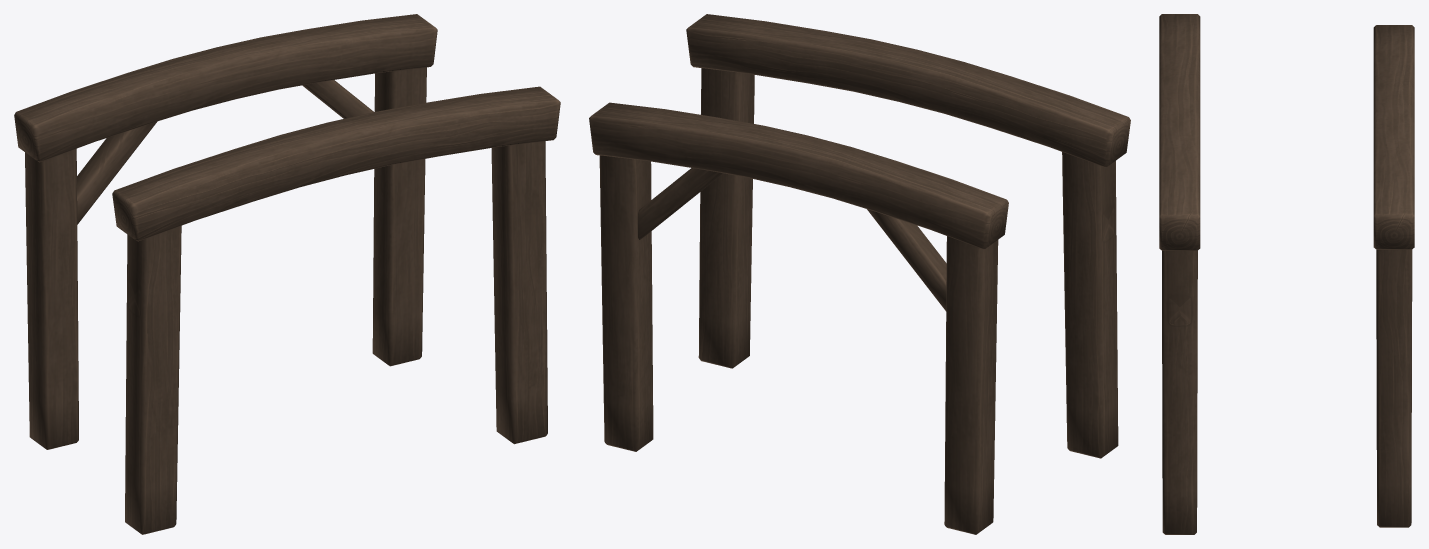
File: minePath_wood4_lod.fbx
The picture shows the model from 3 angles, left to right: view 1: azimuth 30°, elevation 25°; view 2: azimuth 150°, elevation 25°; view 3: azimuth 270°, elevation 25°; orthographic projection. The views are drawn at different scales.
Visible parts, largest first — view 1: shaftPath_wood4_LOD0; view 2: shaftPath_wood4_LOD0; view 3: shaftPath_wood4_LOD0.
Boxes of the visible parts, x1,y1,x2,y2 form: shaftPath_wood4_LOD0: (14,14,560,534); shaftPath_wood4_LOD0: (589,14,1130,534); shaftPath_wood4_LOD0: (1159,14,1414,534).
Size of what is drawn, in the model's own units: 443 by 345 by 235.
